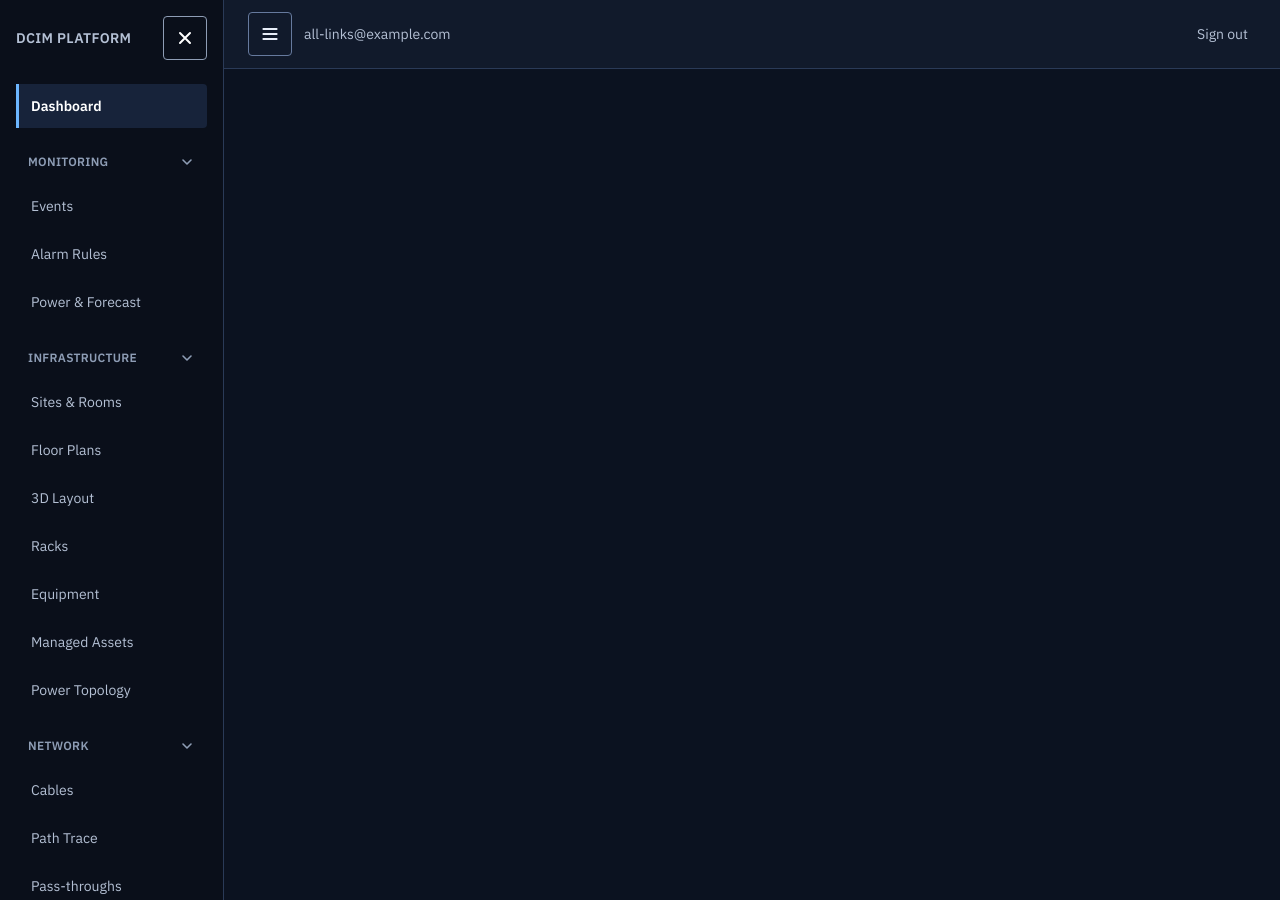
Test: AppShell mobile navigation drawer › opens as a modal dialog, moves focus inside, and locks page scroll
Click the button named "Open main menu".
click(270, 34)  # box 248,12 -> 292,56
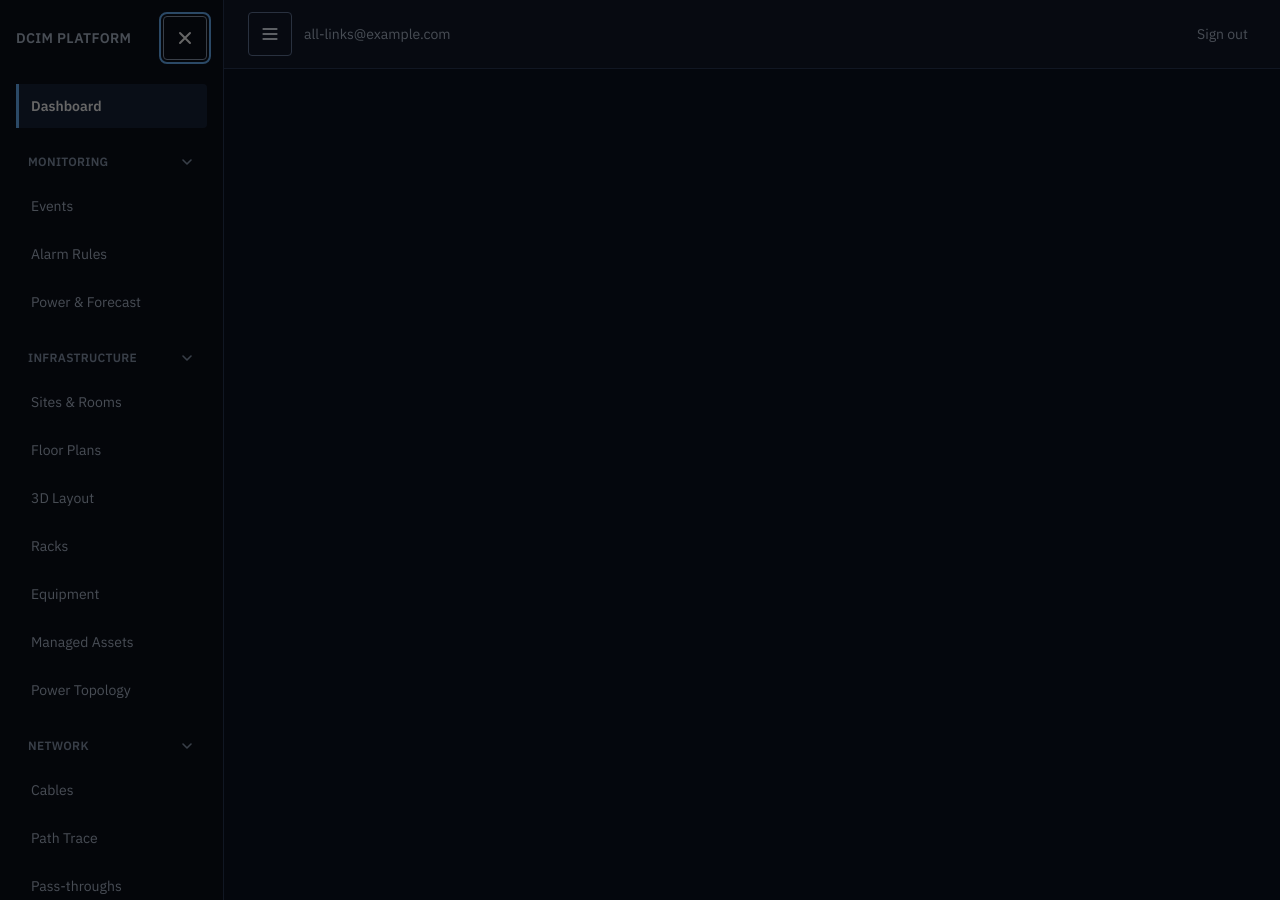
Expected: the button named "Open main menu" is expanded, 248,12 -> 292,56
